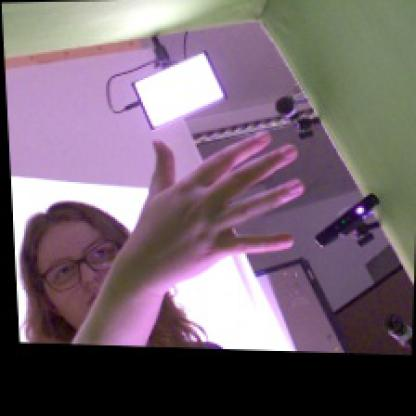Hand: (129, 131, 306, 293)
